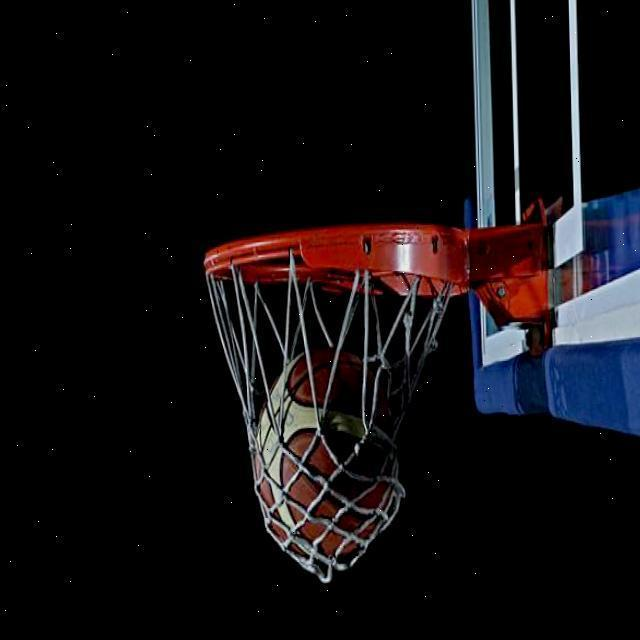Goal: (256, 346, 405, 556)
